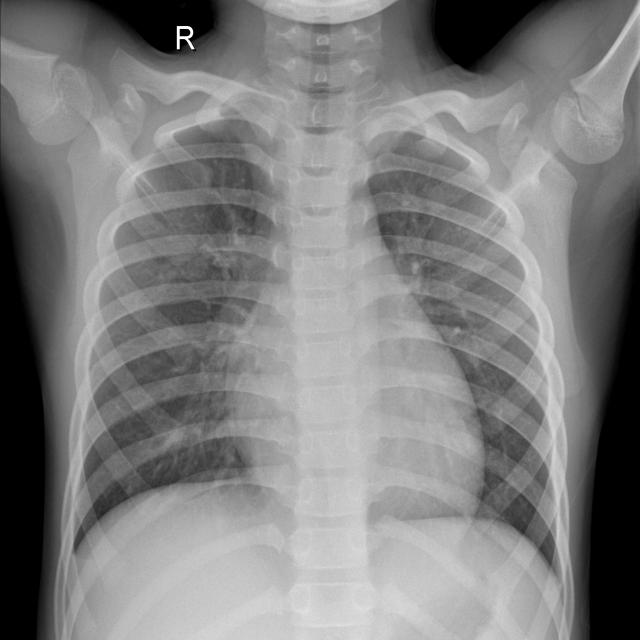no-pneumonia: (366, 108, 570, 576), (66, 119, 276, 557)
